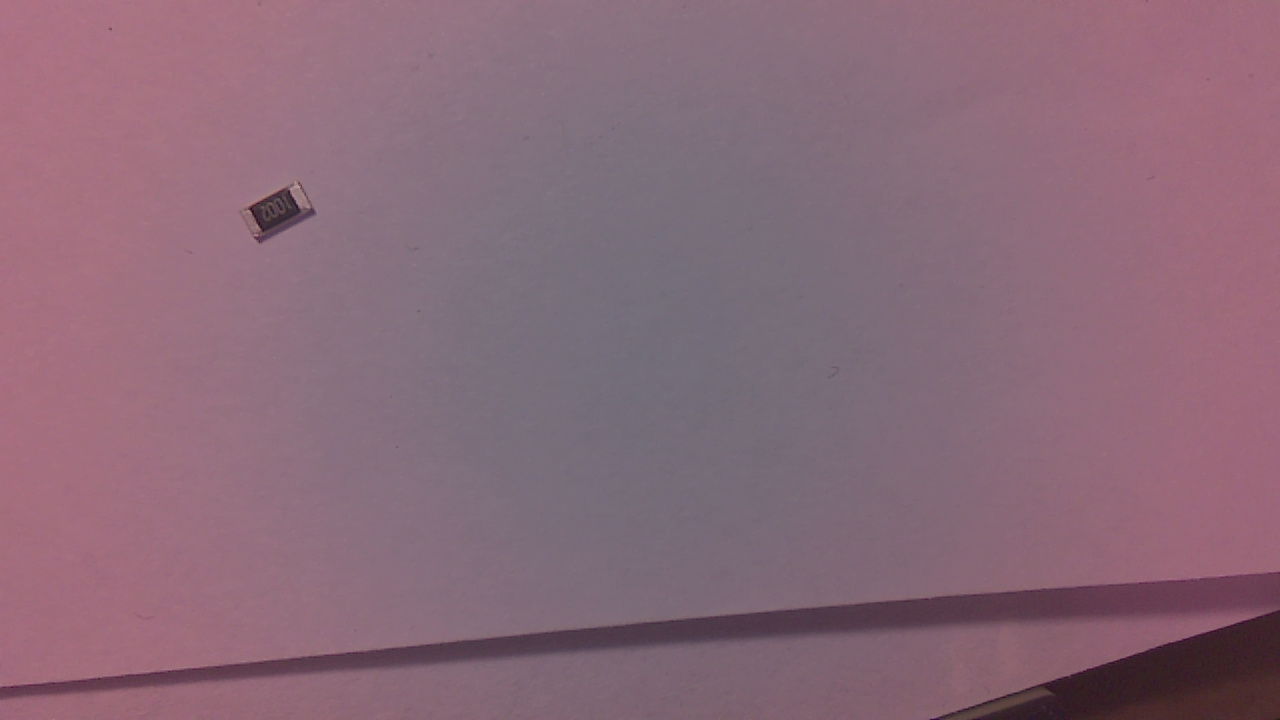Resistor: (242, 184, 319, 250)
